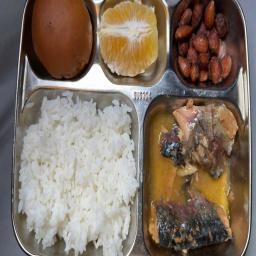100_bread: (30, 0, 96, 82)
100_nuts: (174, 0, 241, 86)
100_orange: (99, 3, 162, 79)
100_rice: (18, 90, 140, 256)
75_fish: (149, 98, 241, 254)
